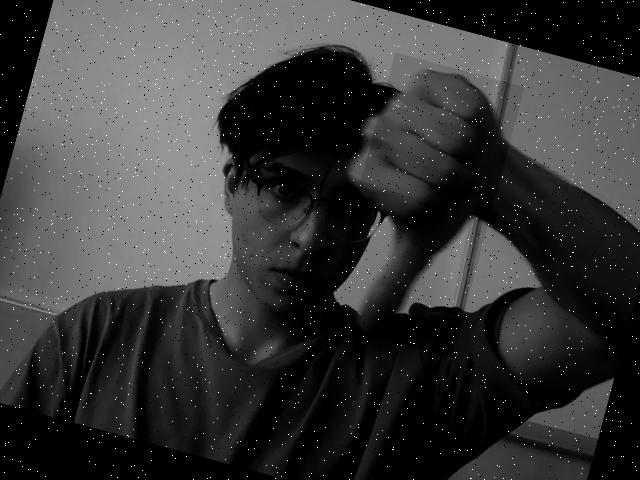bad: (322, 52, 524, 357)
